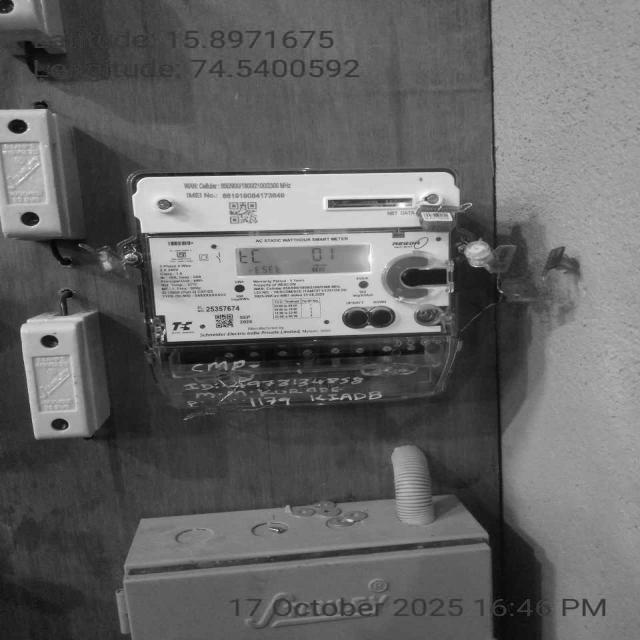meter: (129, 172, 459, 341)
